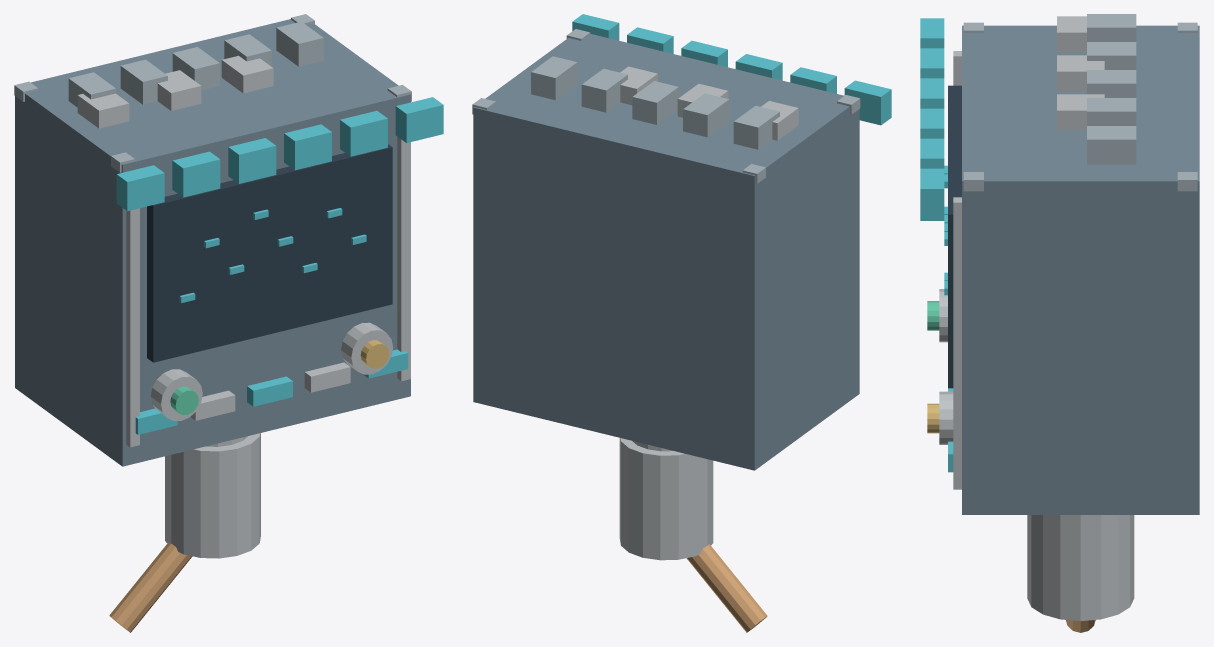
File: 46_L76_TrenchFillTomographyMonitor.glb
3 views of the same model, side by side, from view 1: azimuth 30°, elevation 25°; view 2: azimuth 150°, elevation 25°; view 3: azimuth 270°, elevation 25° (orthographic). The views are drawn at different scales.
Parts seen in each view (by area): view 1: TrenchFillTomographyMonitor_Node_0000, TrenchFillTomographyMonitor_Node_0007, TrenchFillTomographyMonitor_Node_0042, TrenchFillTomographyMonitor_Node_0005, TrenchFillTomographyMonitor_Node_0006, TrenchFillTomographyMonitor_Node_0035, TrenchFillTomographyMonitor_Node_0036, TrenchFillTomographyMonitor_Node_0037, TrenchFillTomographyMonitor_Node_0038, TrenchFillTomographyMonitor_Node_0041, TrenchFillTomographyMonitor_Node_0040, TrenchFillTomographyMonitor_Node_0039 (+16 smaller); view 2: TrenchFillTomographyMonitor_Node_0000, TrenchFillTomographyMonitor_Node_0042, TrenchFillTomographyMonitor_Node_0035, TrenchFillTomographyMonitor_Node_0025, TrenchFillTomographyMonitor_Node_0028, TrenchFillTomographyMonitor_Node_0026, TrenchFillTomographyMonitor_Node_0024, TrenchFillTomographyMonitor_Node_0027, TrenchFillTomographyMonitor_Node_0036, TrenchFillTomographyMonitor_Node_0023, TrenchFillTomographyMonitor_Node_0038, TrenchFillTomographyMonitor_Node_0021 (+5 smaller); view 3: TrenchFillTomographyMonitor_Node_0000, TrenchFillTomographyMonitor_Node_0042, TrenchFillTomographyMonitor_Node_0007, TrenchFillTomographyMonitor_Node_0006, TrenchFillTomographyMonitor_Node_0028, TrenchFillTomographyMonitor_Node_0024, TrenchFillTomographyMonitor_Node_0027, TrenchFillTomographyMonitor_Node_0026, TrenchFillTomographyMonitor_Node_0041, TrenchFillTomographyMonitor_Node_0022, TrenchFillTomographyMonitor_Node_0025, TrenchFillTomographyMonitor_Node_0023 (+11 smaller).
Part boxes in pixels (x1,y1,x2,y2): TrenchFillTomographyMonitor_Node_0000: [15, 19, 410, 466]; TrenchFillTomographyMonitor_Node_0007: [147, 144, 392, 362]; TrenchFillTomographyMonitor_Node_0042: [165, 433, 260, 558]; TrenchFillTomographyMonitor_Node_0005: [126, 208, 139, 447]; TrenchFillTomographyMonitor_Node_0006: [397, 137, 410, 381]; TrenchFillTomographyMonitor_Node_0035: [109, 542, 192, 632]; TrenchFillTomographyMonitor_Node_0036: [116, 165, 164, 211]; TrenchFillTomographyMonitor_Node_0037: [172, 151, 220, 197]; TrenchFillTomographyMonitor_Node_0038: [228, 138, 276, 183]; TrenchFillTomographyMonitor_Node_0041: [395, 97, 443, 142]; TrenchFillTomographyMonitor_Node_0040: [340, 110, 387, 156]; TrenchFillTomographyMonitor_Node_0039: [284, 124, 331, 170]; TrenchFillTomographyMonitor_Node_0000: [473, 34, 859, 470]; TrenchFillTomographyMonitor_Node_0042: [619, 438, 713, 560]; TrenchFillTomographyMonitor_Node_0035: [686, 544, 767, 632]; TrenchFillTomographyMonitor_Node_0025: [683, 93, 729, 137]; TrenchFillTomographyMonitor_Node_0028: [531, 56, 577, 100]; TrenchFillTomographyMonitor_Node_0026: [632, 81, 678, 124]; TrenchFillTomographyMonitor_Node_0024: [733, 105, 779, 149]; TrenchFillTomographyMonitor_Node_0027: [581, 68, 627, 112]; TrenchFillTomographyMonitor_Node_0036: [844, 80, 891, 125]; TrenchFillTomographyMonitor_Node_0023: [620, 66, 657, 105]; TrenchFillTomographyMonitor_Node_0038: [735, 54, 782, 80]; TrenchFillTomographyMonitor_Node_0021: [761, 101, 798, 140]; TrenchFillTomographyMonitor_Node_0000: [962, 25, 1199, 514]; TrenchFillTomographyMonitor_Node_0042: [1027, 515, 1134, 620]; TrenchFillTomographyMonitor_Node_0007: [948, 85, 961, 388]; TrenchFillTomographyMonitor_Node_0006: [953, 197, 961, 489]; TrenchFillTomographyMonitor_Node_0028: [1087, 126, 1136, 164]; TrenchFillTomographyMonitor_Node_0024: [1087, 14, 1136, 41]; TrenchFillTomographyMonitor_Node_0027: [1087, 98, 1136, 125]; TrenchFillTomographyMonitor_Node_0026: [1087, 70, 1136, 97]; TrenchFillTomographyMonitor_Node_0041: [920, 168, 944, 220]; TrenchFillTomographyMonitor_Node_0022: [1057, 55, 1104, 91]; TrenchFillTomographyMonitor_Node_0025: [1087, 42, 1136, 69]; TrenchFillTomographyMonitor_Node_0023: [1057, 94, 1104, 130].
Bounding box in the file's own units: 0.68 × 1.12 × 0.47.
